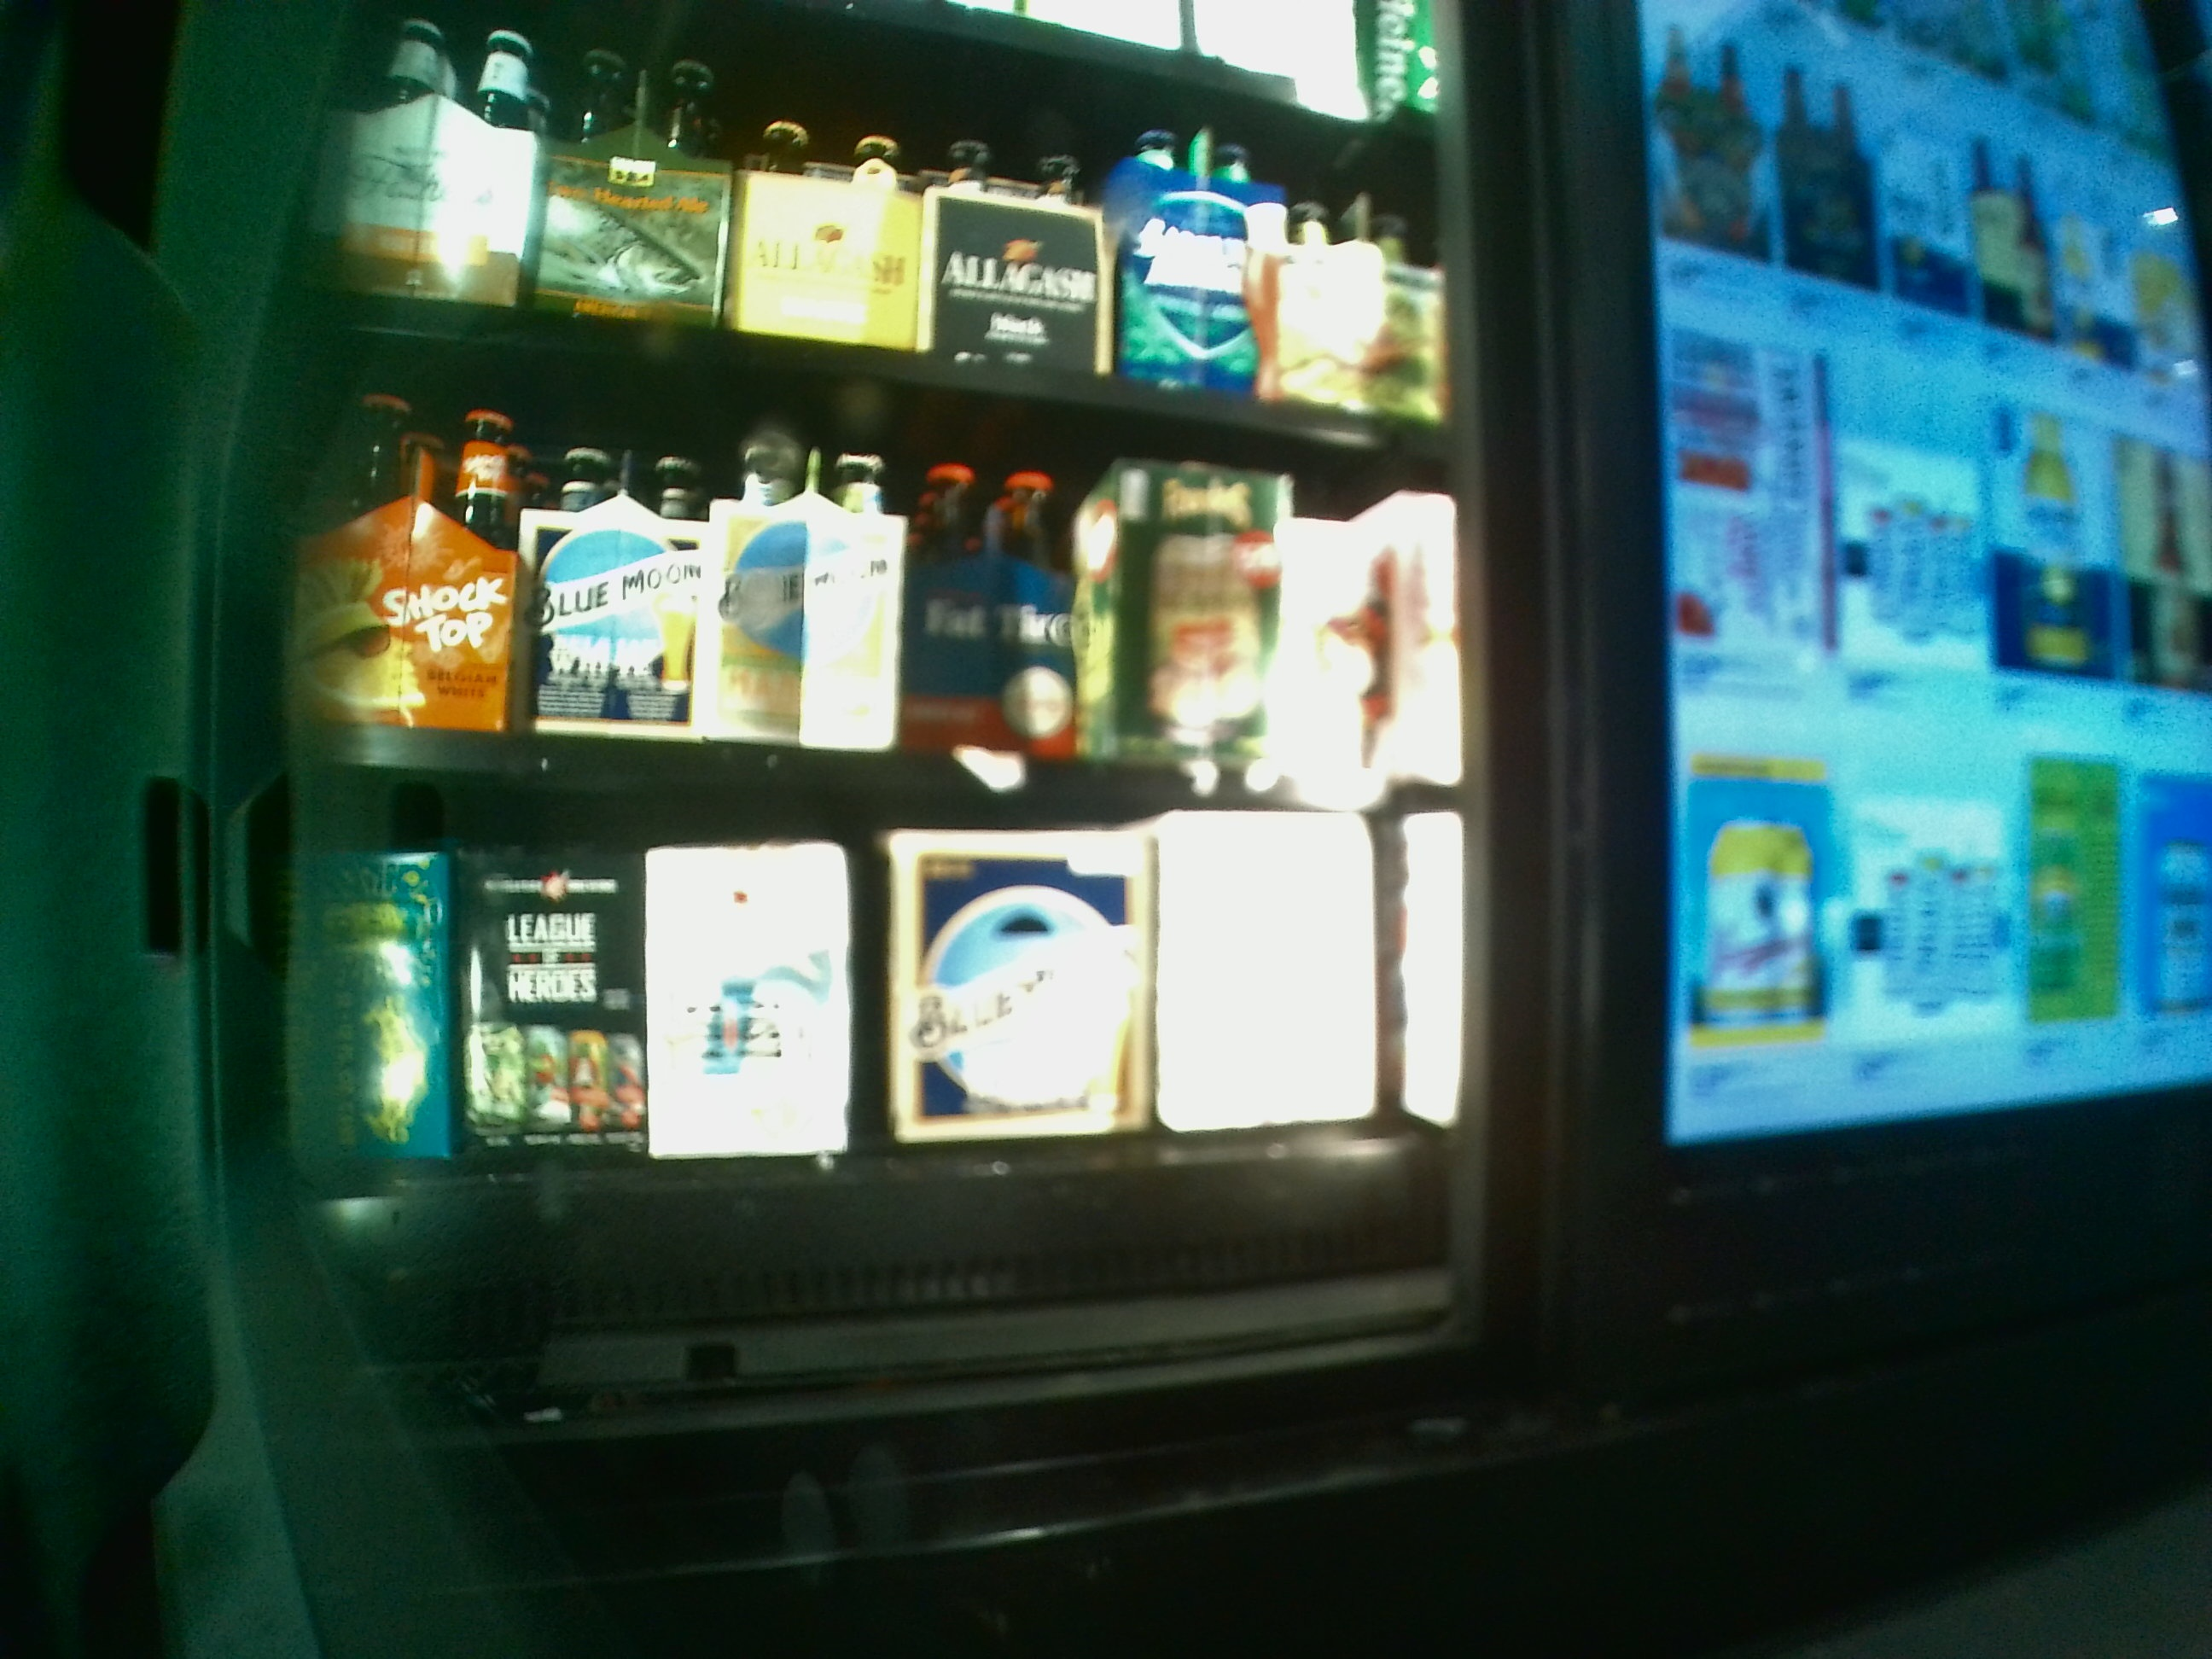shelf: (284, 809, 1458, 1328), (294, 340, 1446, 793)
